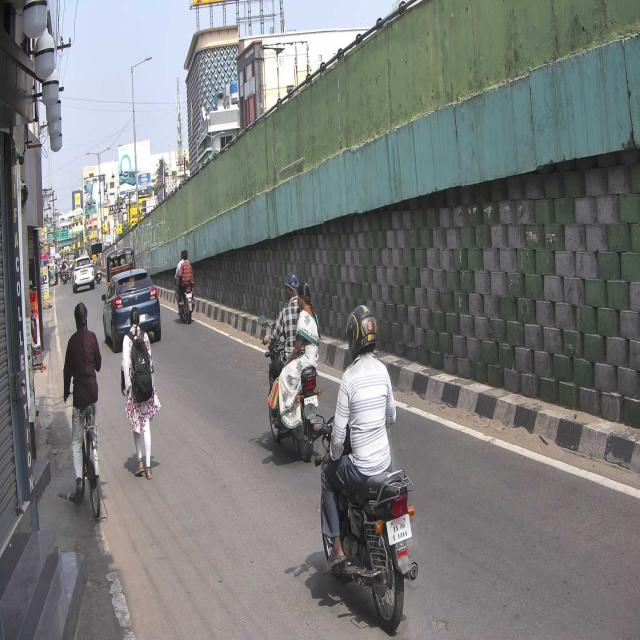double_rider: (264, 272, 320, 459)
single_rider: (322, 306, 418, 633)
